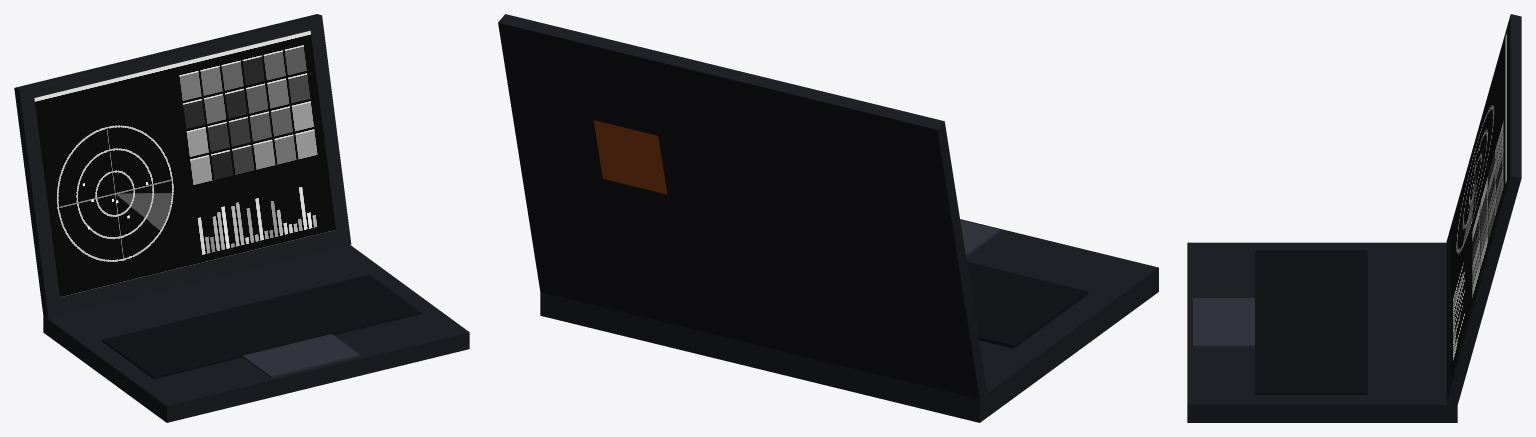
File: Tech_Laptop.glb
3 renders of one model, left to right at view 1: azimuth 30°, elevation 25°; view 2: azimuth 150°, elevation 25°; view 3: azimuth 270°, elevation 25°, orthographic. The views are drawn at different scales.
Parts seen in each view (by area): view 1: Tech_Laptop; view 2: Tech_Laptop; view 3: Tech_Laptop.
Boxes of the visible parts, x1=… form: Tech_Laptop: x1=14, y1=14, x2=469, y2=422; Tech_Laptop: x1=498, y1=14, x2=1158, y2=422; Tech_Laptop: x1=1187, y1=14, x2=1521, y2=422.
Bounding box in the file's own units: 0.34 × 0.2421 × 0.2967.
Materials: 5 (1 with a texture image).
